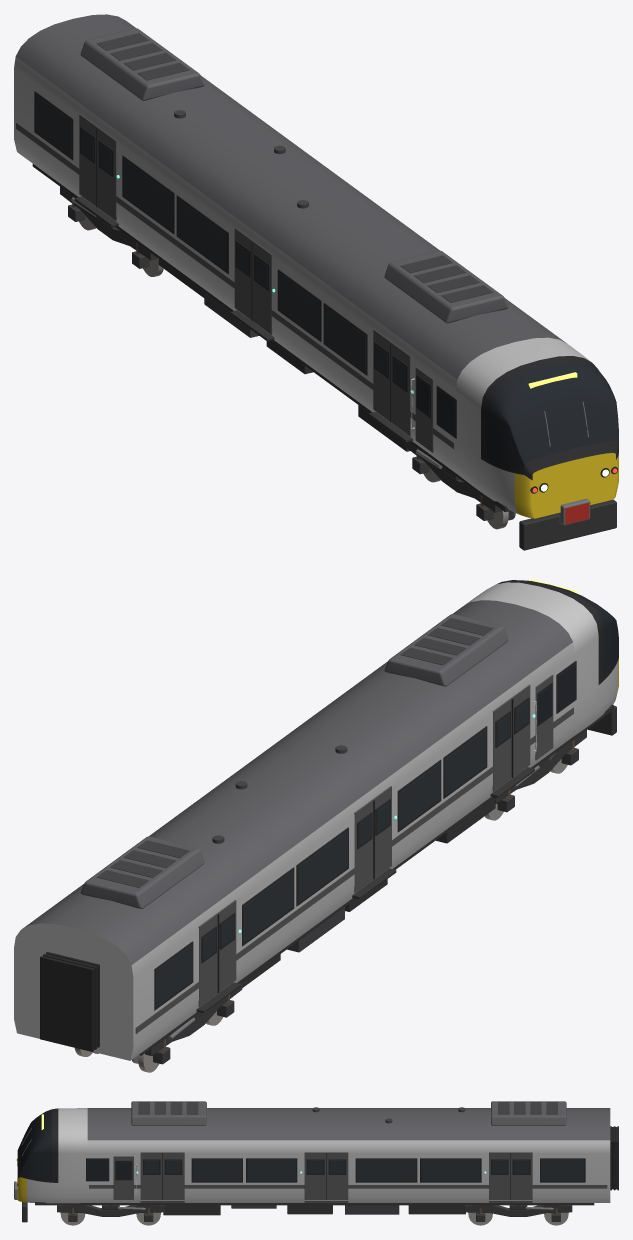
The model's file is train_emu_cab.glb.
3 renders of one model, top to bottom at view 1: azimuth 30°, elevation 25°; view 2: azimuth 150°, elevation 25°; view 3: azimuth 270°, elevation 25°, orthographic. The views are drawn at different scales.
Parts seen in each view (by area): view 1: SM_train_emu_cab; view 2: SM_train_emu_cab; view 3: SM_train_emu_cab.
Boxes of the visible parts, x1,y1,x2,y2 form: SM_train_emu_cab: [14, 14, 618, 550]; SM_train_emu_cab: [14, 579, 618, 1072]; SM_train_emu_cab: [14, 1101, 618, 1225].
Size of the model in its own units: 3.04 by 4.07 by 20.77.
